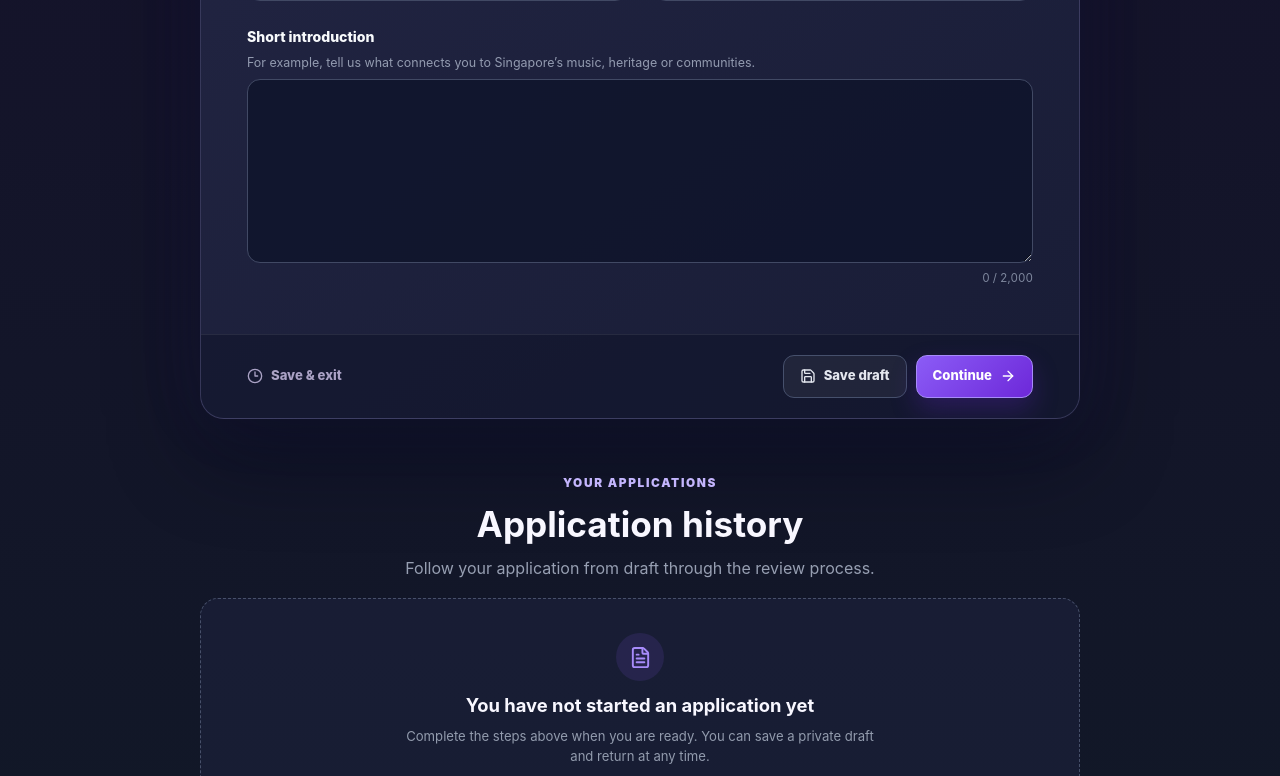
Test: creator application journey › shows inline validation before moving to the next step
(page scrolled)
Click the button "Continue": point(974, 376) [916,355,1033,398]
(page scrolled)
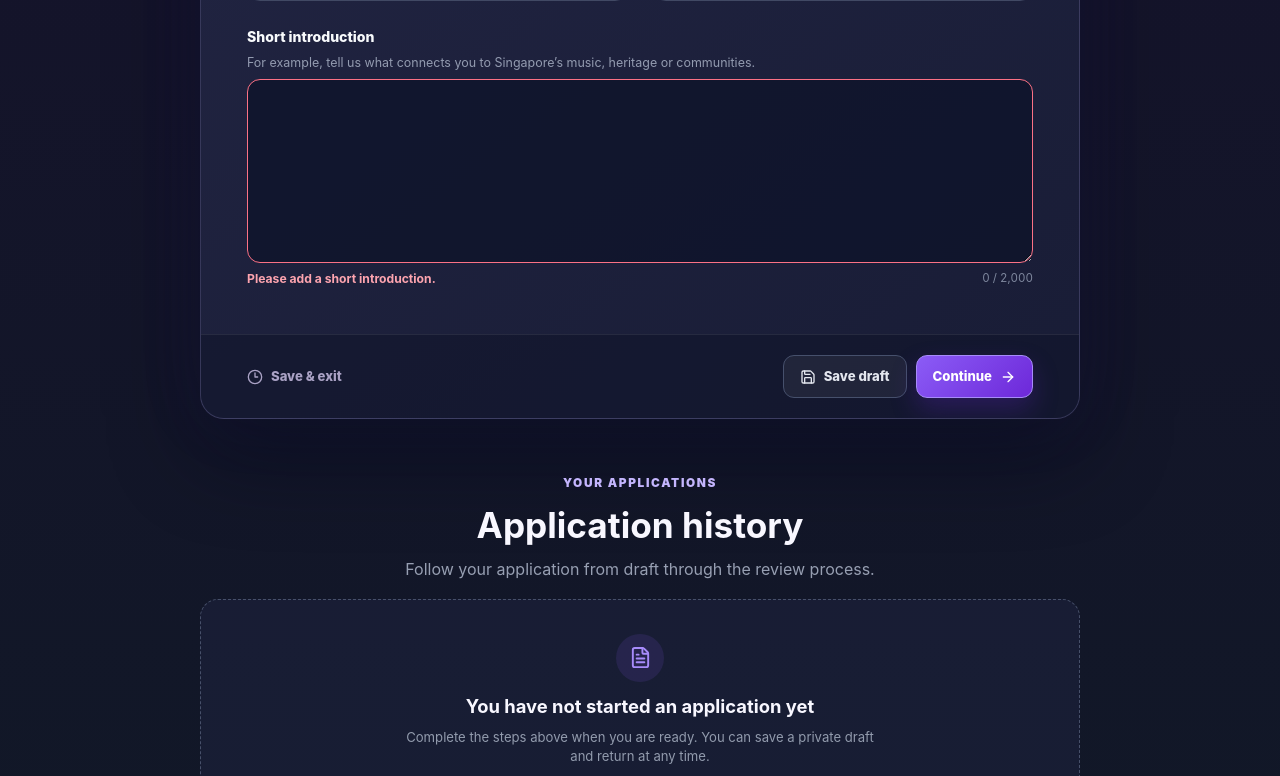
Result: the text "Please add a short introduction." is shown at [247,270,436,288]
